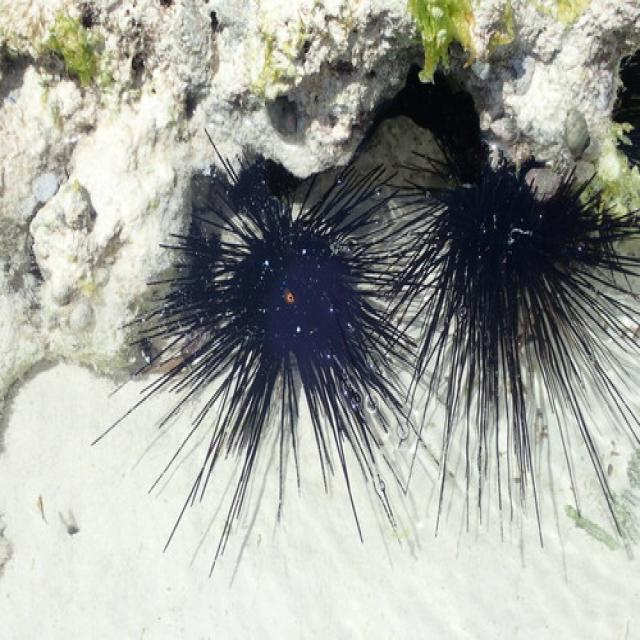Urchin: (92, 128, 422, 575), (381, 138, 640, 551)
